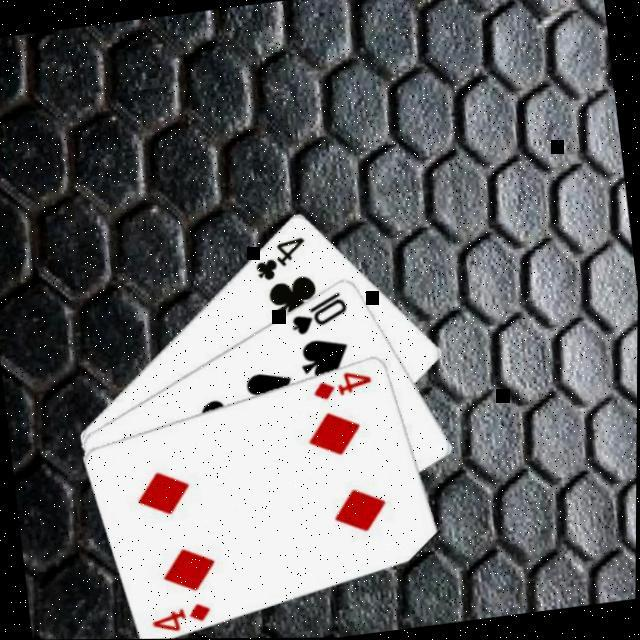10S: (287, 288, 354, 339)
4C: (251, 234, 314, 286)
4D: (311, 366, 378, 406), (151, 600, 218, 637)
